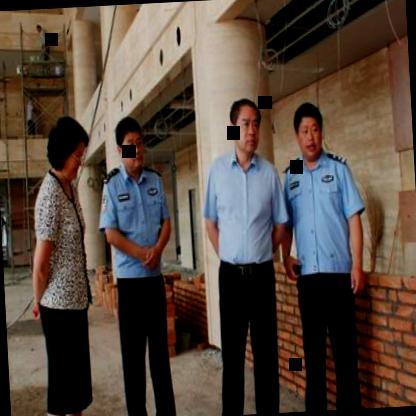head: (46, 113, 91, 190), (225, 92, 265, 159), (289, 97, 328, 164), (110, 113, 148, 178)
